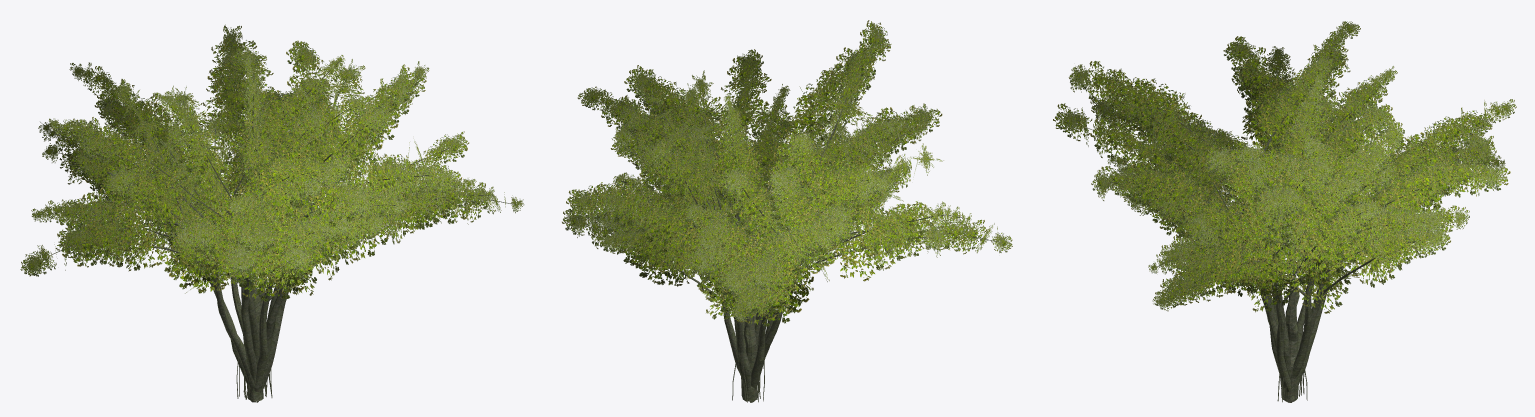
3 views of the same model, side by side, from view 1: azimuth 30°, elevation 25°; view 2: azimuth 150°, elevation 25°; view 3: azimuth 270°, elevation 25° (orthographic). The views are drawn at different scales.
Visible parts, largest first — view 1: Folhas, Tronco; view 2: Folhas, Tronco; view 3: Folhas, Tronco.
Part boxes in pixels (x1=…): Folhas: x1=20, y1=24, x2=524, y2=301; Tronco: x1=35, y1=44, x2=516, y2=402; Folhas: x1=562, y1=20, x2=1012, y2=326; Tronco: x1=579, y1=44, x2=1000, y2=402; Folhas: x1=1053, y1=21, x2=1516, y2=313; Tronco: x1=1076, y1=30, x2=1499, y2=402.
Size of the model in its own units: 27.97 by 19.42 by 25.11.
